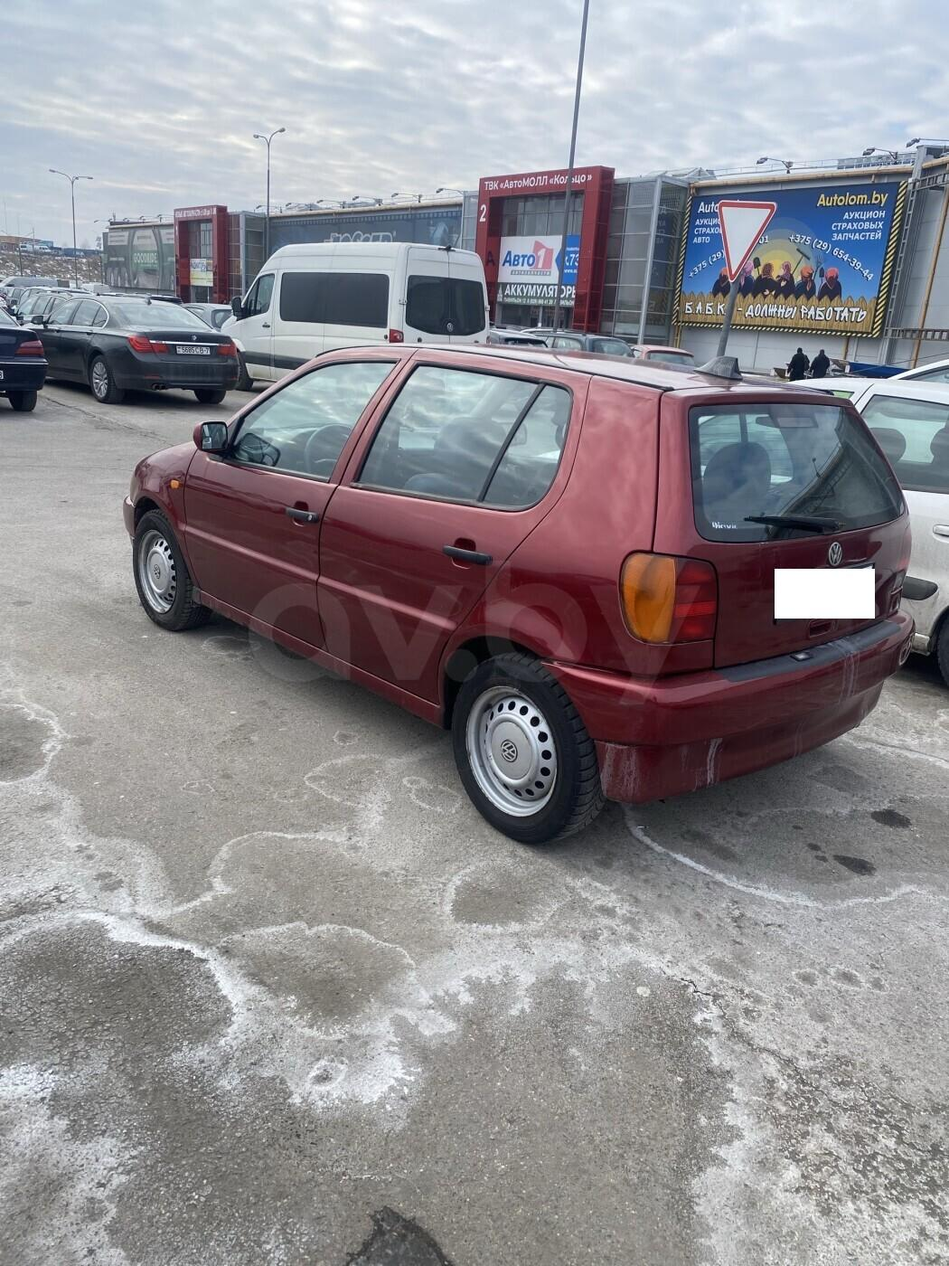Polo_1994-2002: (119, 332, 913, 866)
